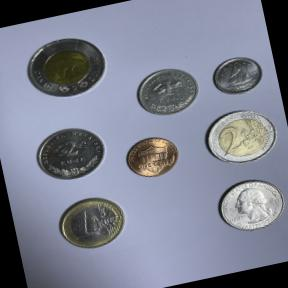1 Euro: (48, 187, 132, 258)
2 Euro: (198, 100, 284, 174)
Canda-10cent-: (206, 48, 270, 102)
Canda-2Dollar-: (16, 26, 116, 108)
Croatia-2Kune-: (26, 118, 115, 190)
US-1cent-: (119, 128, 186, 184)
US-25cent-: (207, 169, 288, 240)
